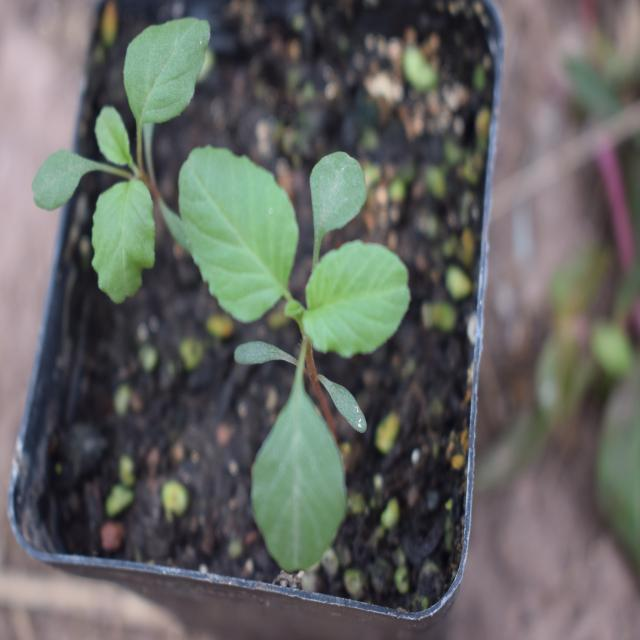pigweed: (180, 143, 404, 552), (42, 7, 201, 289)
